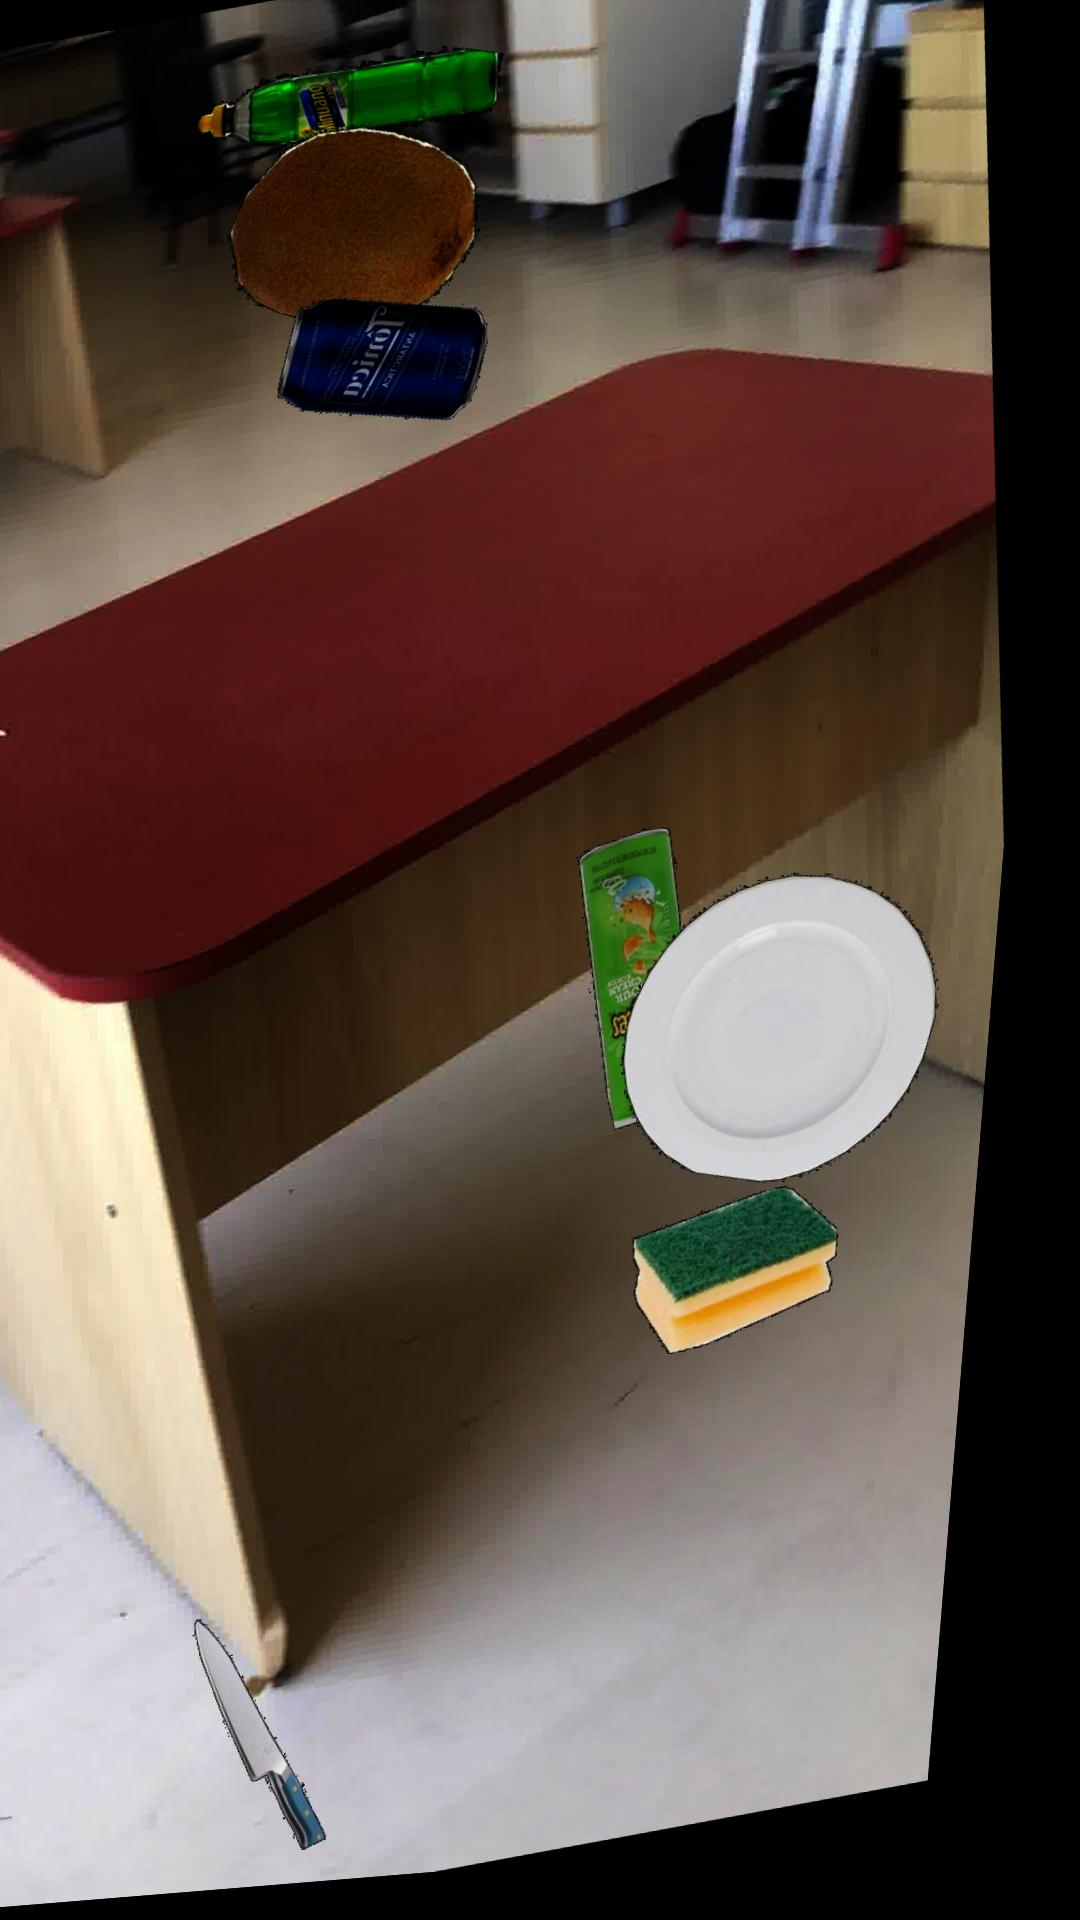cleaner: (196, 54, 504, 152)
kiwi: (231, 132, 481, 322)
knife: (222, 1625, 357, 1855)
plate: (640, 889, 955, 1196)
pringles: (592, 839, 696, 1142)
sponge: (654, 1200, 860, 1366)
tonic: (284, 303, 493, 427)
